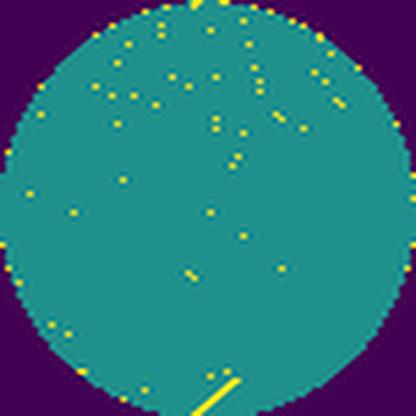Scratch: (188, 371, 249, 416)
